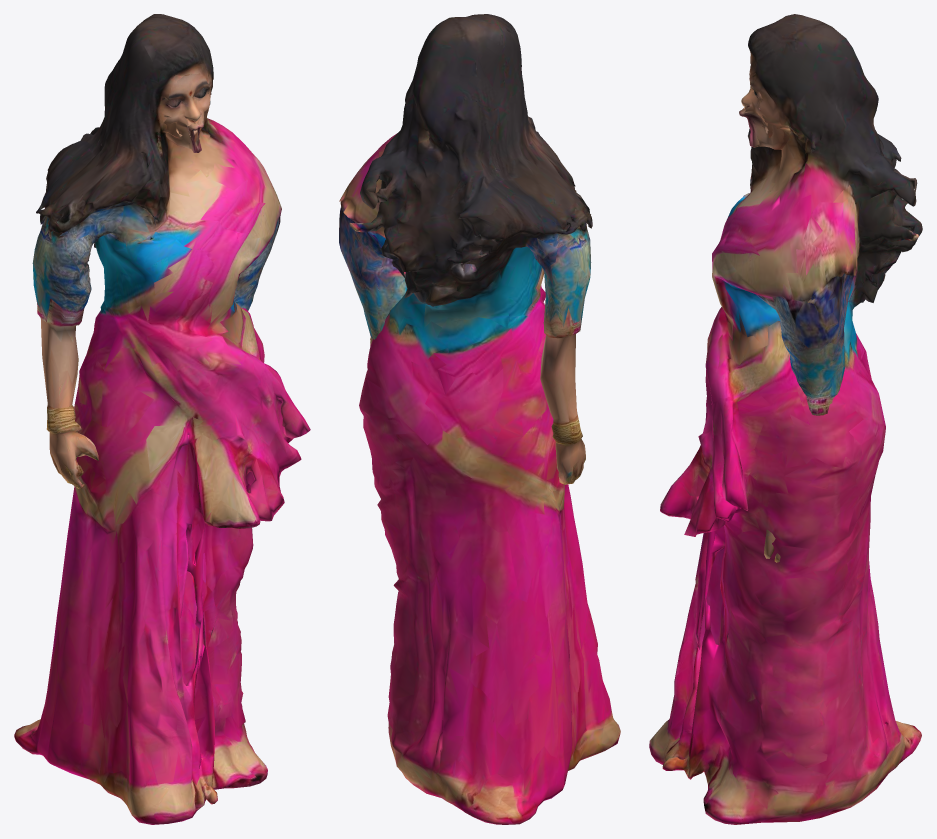
The model's file is sf_woman_saree_pink.glb.
The picture shows the model from 3 angles, left to right: view 1: azimuth 30°, elevation 25°; view 2: azimuth 150°, elevation 25°; view 3: azimuth 270°, elevation 25°; orthographic projection. The views are drawn at different scales.
Visible parts, largest first — view 1: sf_woman_saree_pink; view 2: sf_woman_saree_pink; view 3: sf_woman_saree_pink.
Part boxes in pixels (x1,y1,x2,y2): sf_woman_saree_pink: (14,14,310,824); sf_woman_saree_pink: (339,14,620,824); sf_woman_saree_pink: (649,14,922,824).
Size of the model in its own units: 0.5321 by 1.57 by 0.5071.
5 materials, 5 textured.
